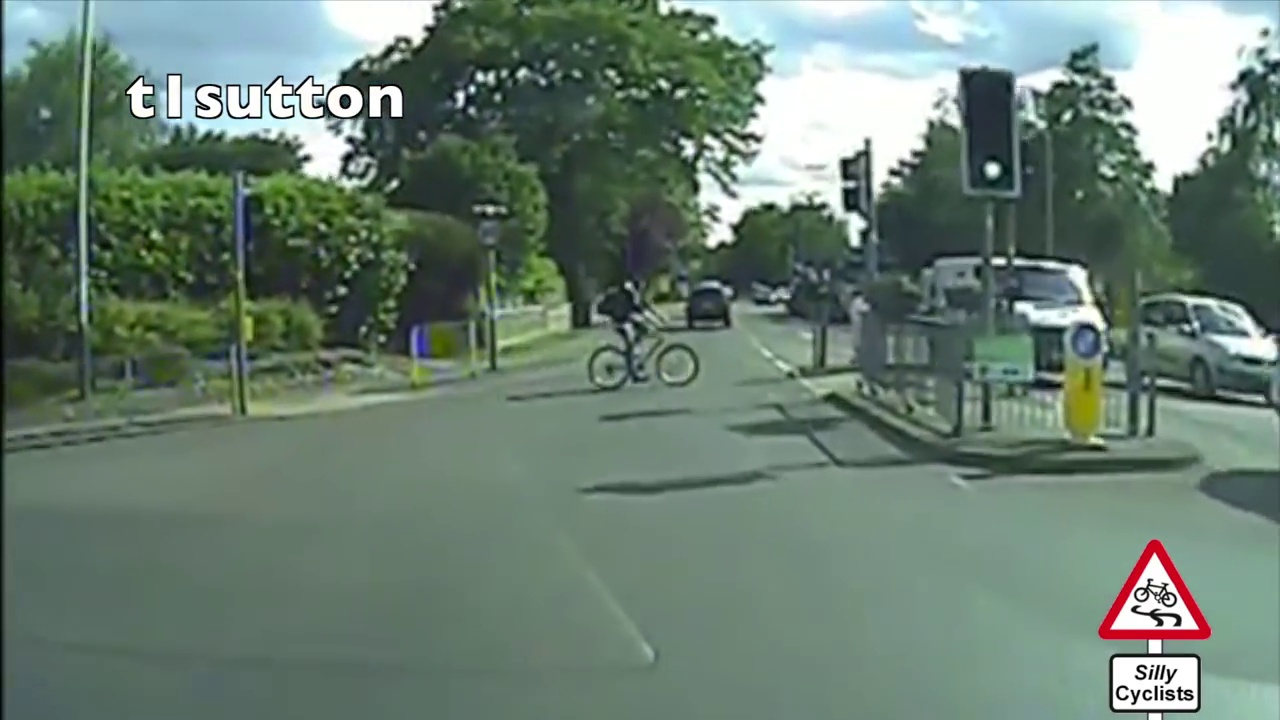cyclist_side: (586, 283, 703, 390)
